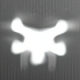plane: (1, 13, 79, 71)
